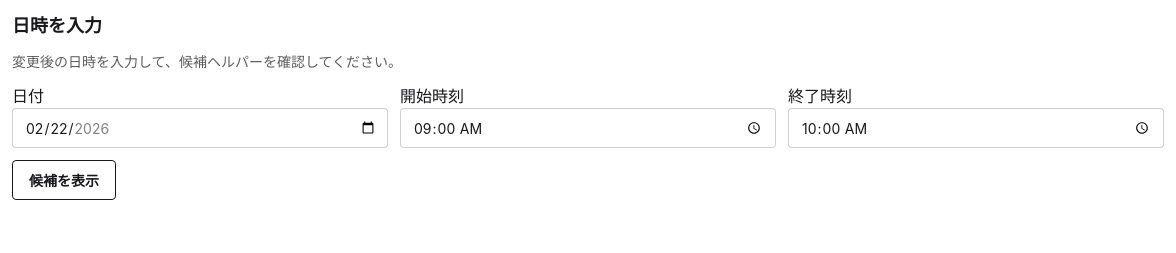
Scenario: StepDatetimeInput › 日付が未入力ならバリデーションエラーを表示する
Clear the date field labelled "日付" at (200, 128), box [12,108,388,148]
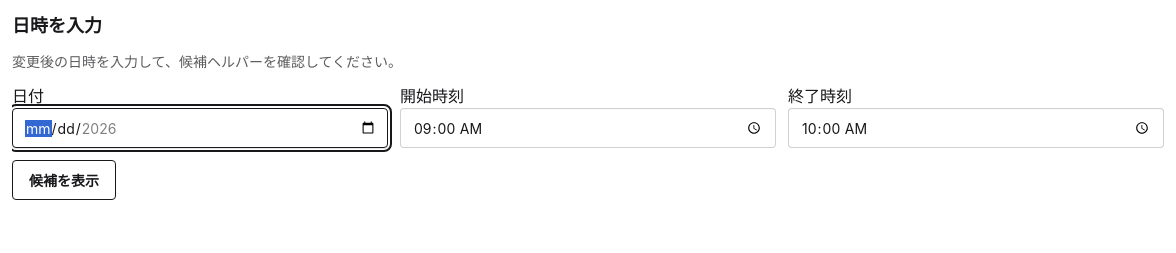
Click the button "候補を表示".
click(64, 180)  # box [12,160,116,200]
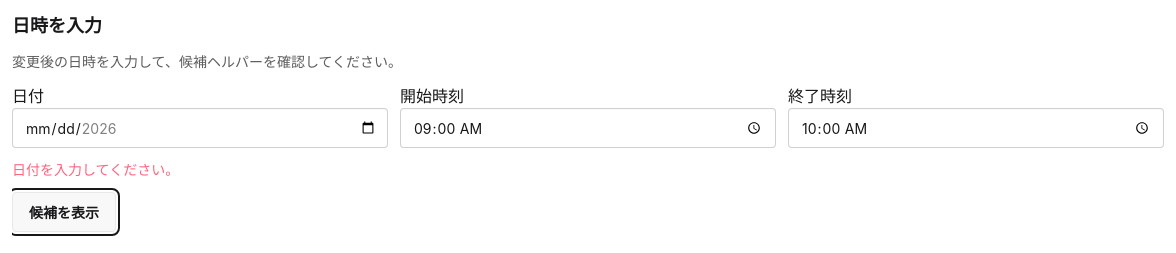
Check: the text "日付を入力してください。" is shown, box [12,161,179,178]
